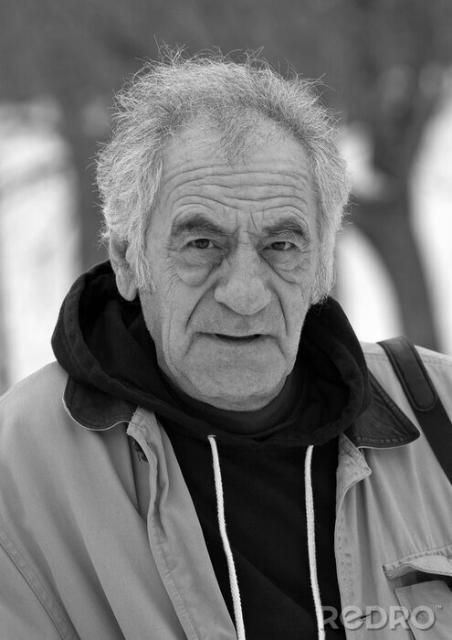bunny_line: (270, 266, 302, 288)
crows_feet: (159, 237, 183, 259), (292, 241, 316, 261)
forehead: (171, 164, 213, 210), (226, 172, 270, 212), (277, 171, 312, 217)
frown_line: (232, 222, 260, 248)
gummy_smile: (183, 280, 213, 324), (270, 289, 294, 329)
sad_smile: (178, 334, 198, 356), (272, 334, 288, 358)
